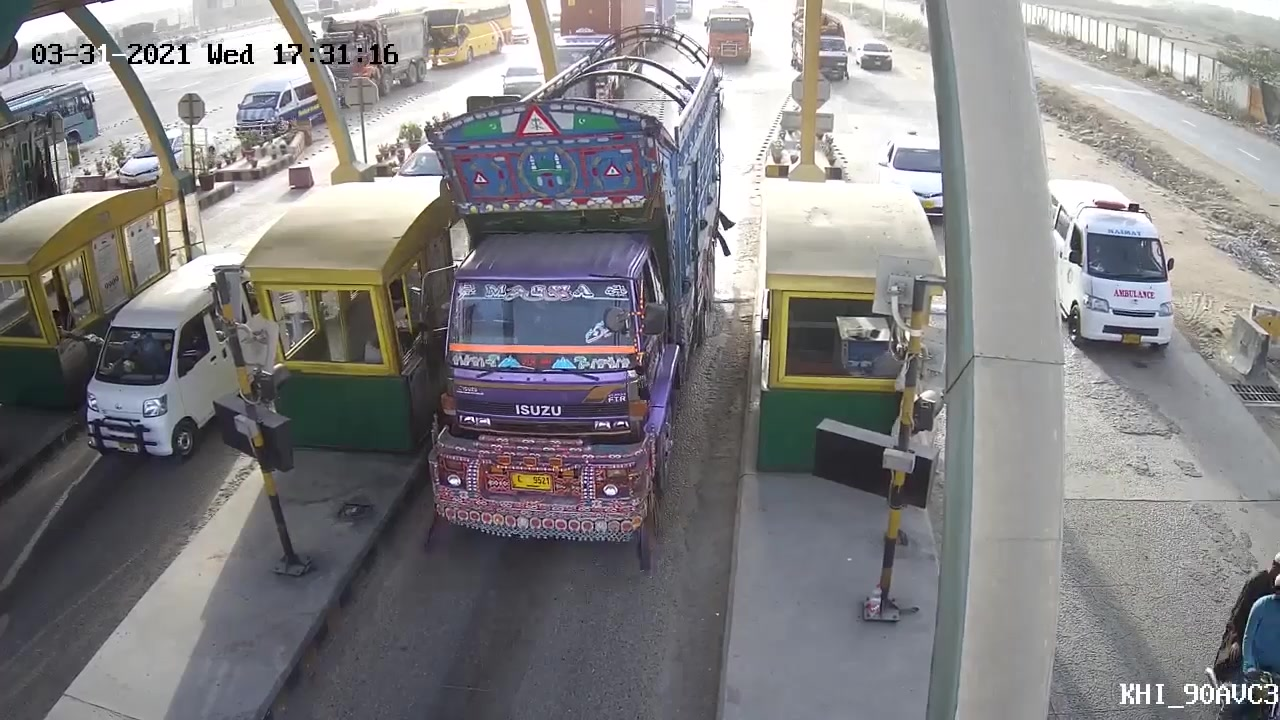F5: (411, 27, 734, 557)
